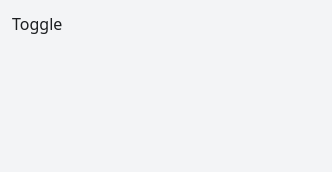
Collapsible › Data Attributes › has data-state open when open
The width and height of the screenshot is (332, 172).
Step 1. Click the button "Toggle" → (37, 24), box [12,12,62,36]
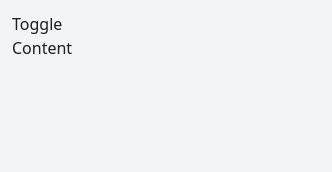
Now the element with test id "collapsible" has attribute data-state="open", box [12,12,72,59]
